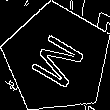M_SE: (24, 26, 90, 92)
